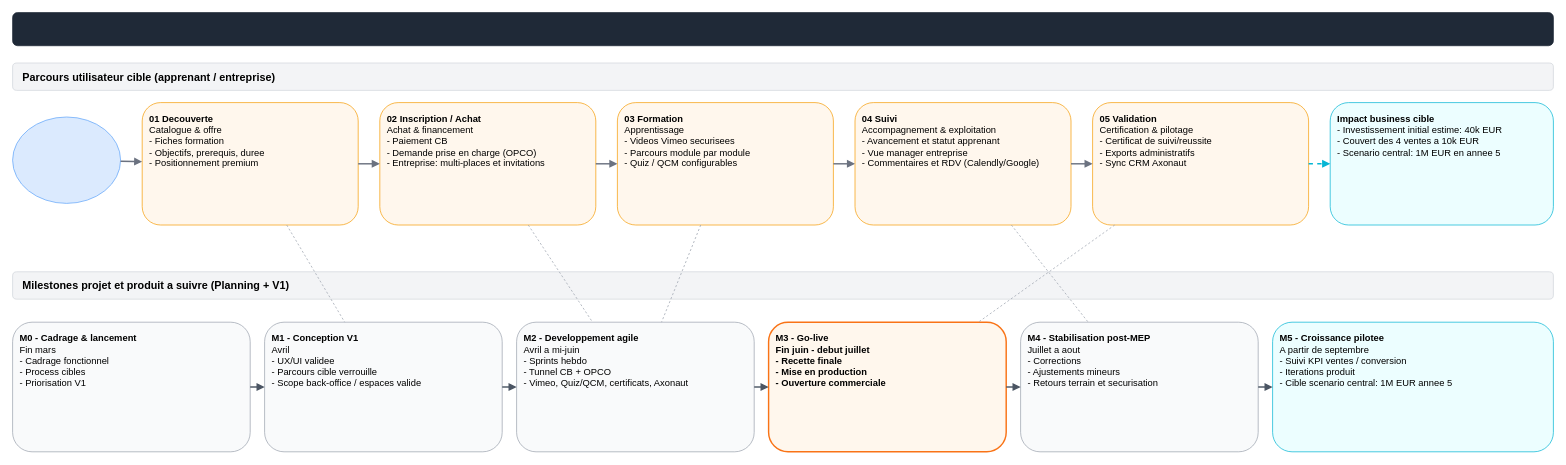
The diagram is 1566 pixels wide and 465 high, and some of its shapes have lost their labels. The centre of each missing label's shape, as x and y in pixels:
"Apprenant ou Entreprise" belongs at pixel 66 159.
"SoLearning V1 - Parcours utilisateur et milestones cles" belongs at pixel 782 29.
